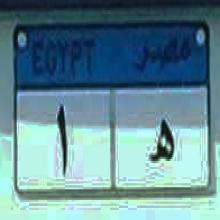1: (53, 101, 73, 179)
haa: (151, 110, 176, 169)
